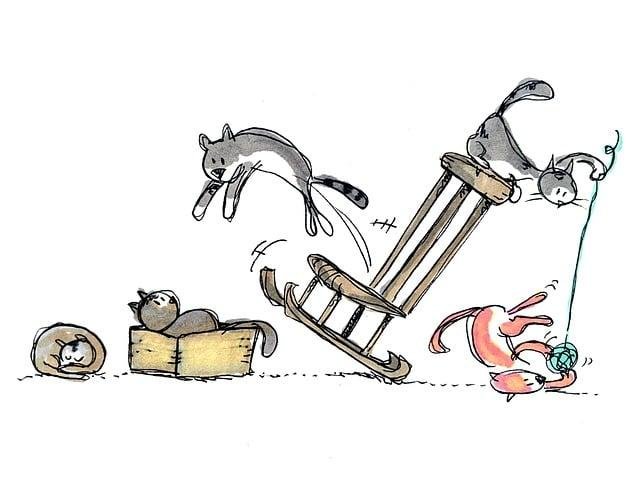Non_Gorille: (23, 26, 614, 445)
